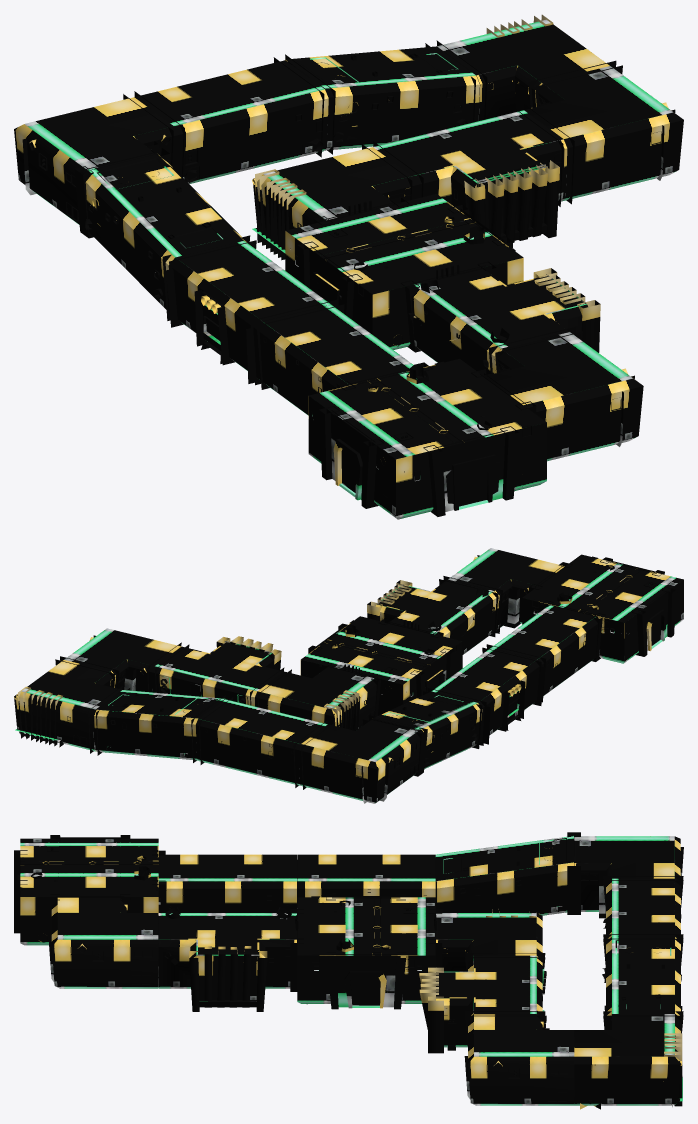
File: Combined_Mesh_root_scene_b20ae4d5__zombies2_diffuse_12_078cf75e_c1f257.obj
3 renders of one model, top to bottom at view 1: azimuth 30°, elevation 25°; view 2: azimuth 150°, elevation 25°; view 3: azimuth 270°, elevation 25°, orthographic. The views are drawn at different scales.
Size of the model in its own units: 77.06 by 11.5 by 96.9.
233 materials, 233 textured.
